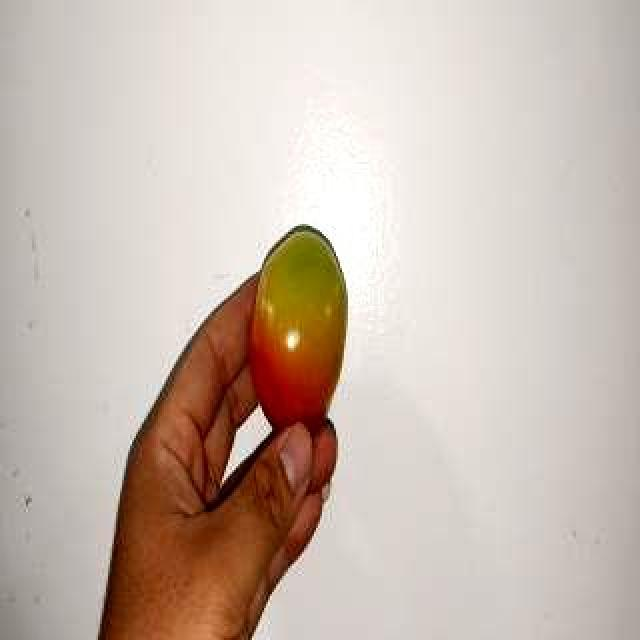Fresh_Tomato: (246, 220, 354, 458)
